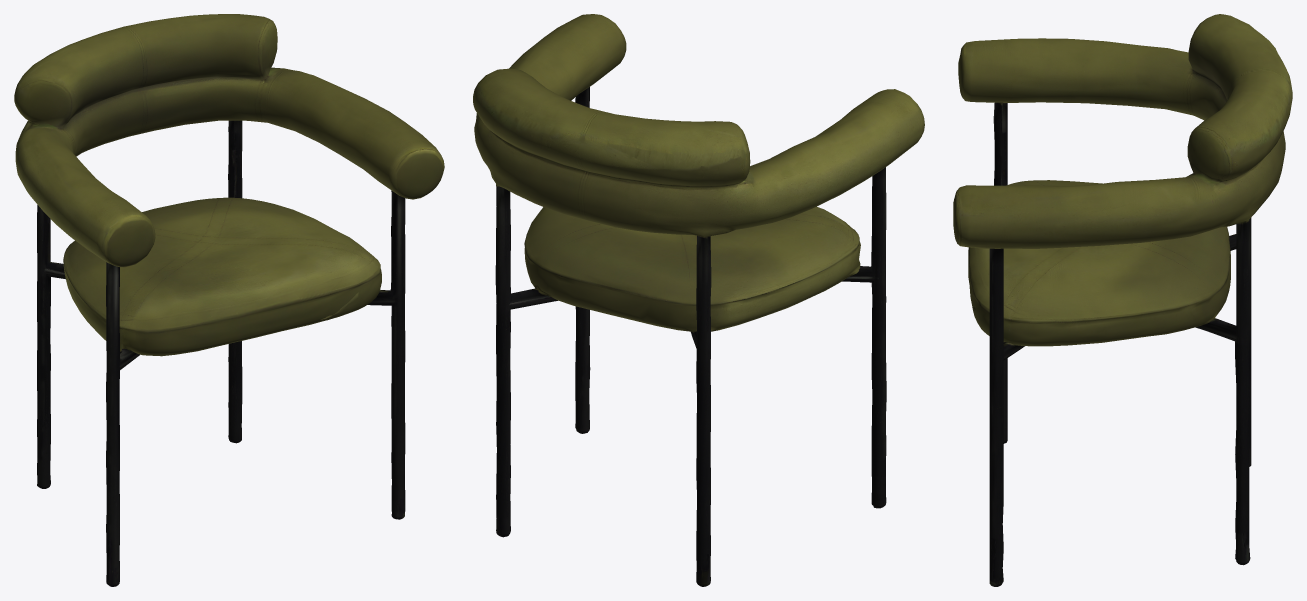
Rendered from Jaslene_Dining_Chair_0404021421_texture.glb.
The picture shows the model from 3 angles, left to right: view 1: azimuth 30°, elevation 25°; view 2: azimuth 150°, elevation 25°; view 3: azimuth 270°, elevation 25°; orthographic projection. The views are drawn at different scales.
Parts seen in each view (by area): view 1: Mesh_0.002; view 2: Mesh_0.002; view 3: Mesh_0.002.
Boxes of the visible parts, left/top/right/bottom form: Mesh_0.002: left=14, top=14, right=444, bottom=586; Mesh_0.002: left=473, top=14, right=924, bottom=586; Mesh_0.002: left=953, top=14, right=1292, bottom=586.
Size of the model in its own units: 0.6793 by 0.8128 by 0.5608.
Materials: 1 (1 with a texture image).
